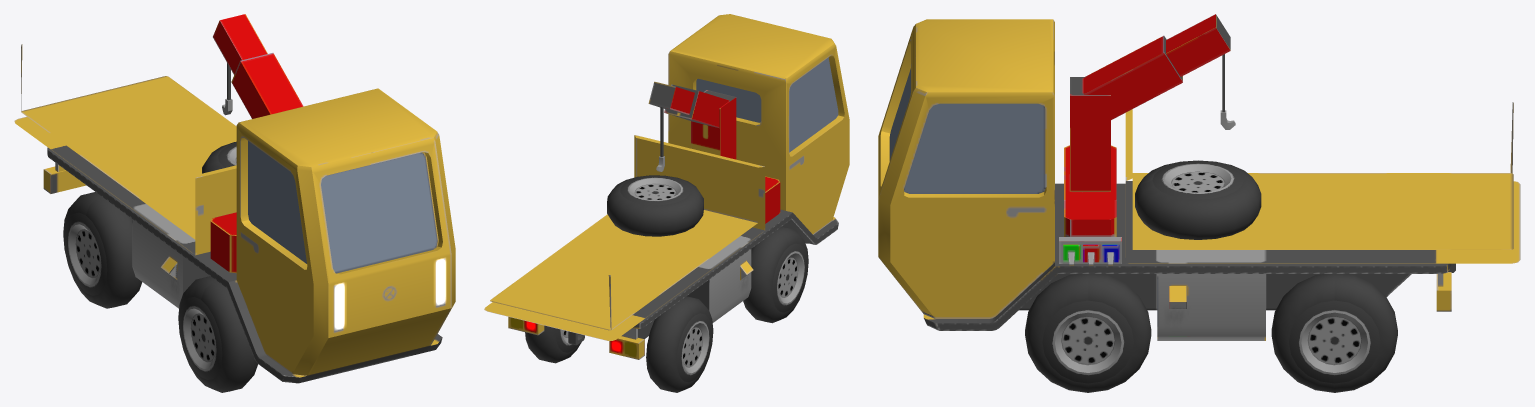
File: grua.glb
The picture shows the model from 3 angles, left to right: view 1: azimuth 30°, elevation 25°; view 2: azimuth 150°, elevation 25°; view 3: azimuth 270°, elevation 25°; orthographic projection. The views are drawn at different scales.
Visible parts, largest first — view 1: body, wheel_br, wheel_fr; view 2: body, wheel_br, wheel_fr, wheel_bl; view 3: body, wheel_fl, wheel_bl.
Part boxes in pixels (box(x1,y1,x2,y2)): body: box(14, 14, 455, 383); wheel_br: box(63, 192, 142, 308); wheel_fr: box(178, 276, 257, 392); body: box(484, 14, 849, 359); wheel_br: box(646, 296, 713, 392); wheel_fr: box(743, 226, 808, 323); wheel_bl: box(525, 325, 581, 363); body: box(878, 14, 1520, 340); wheel_fl: box(1025, 274, 1151, 392); wheel_bl: box(1271, 274, 1397, 392).
Bounding box in the file's own units: 183 × 291 × 511.
Materials: 1 (1 with a texture image).
